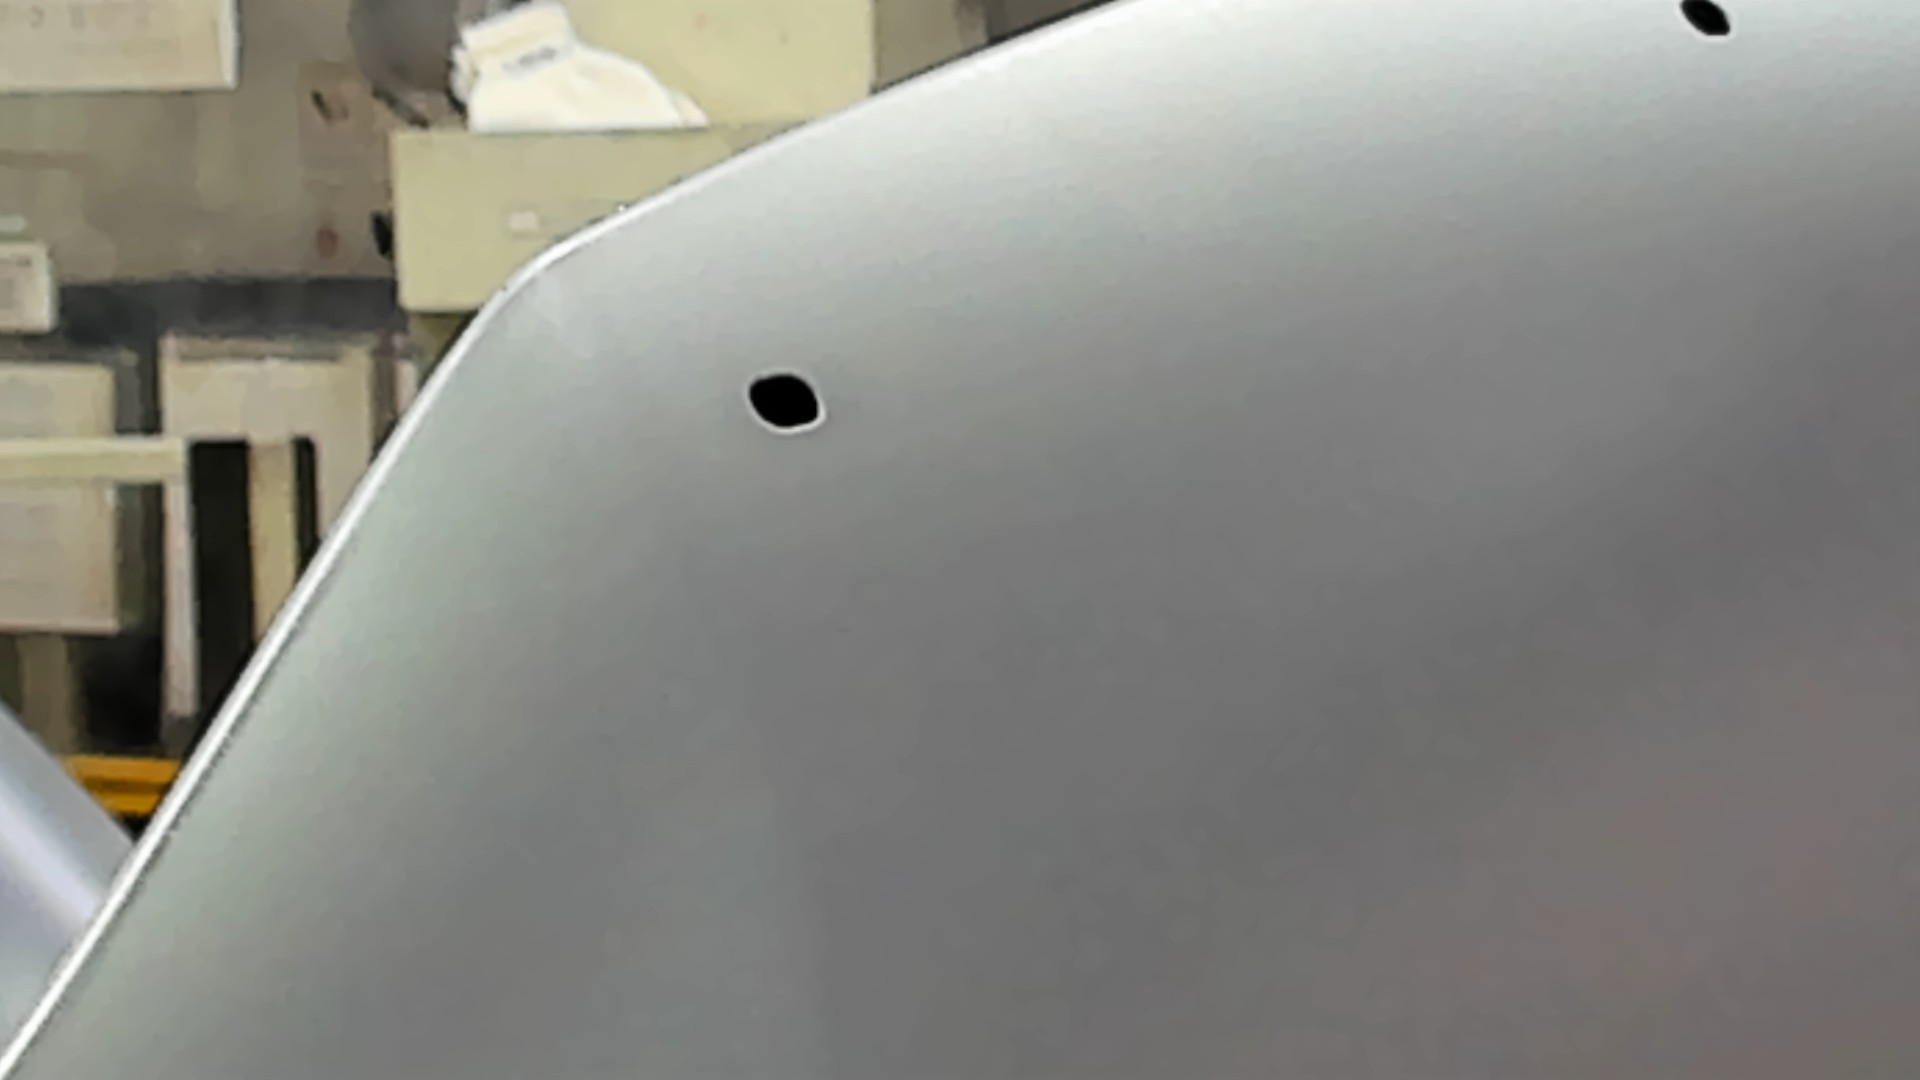amorfo: (742, 360, 832, 440), (1673, 1, 1737, 47)
